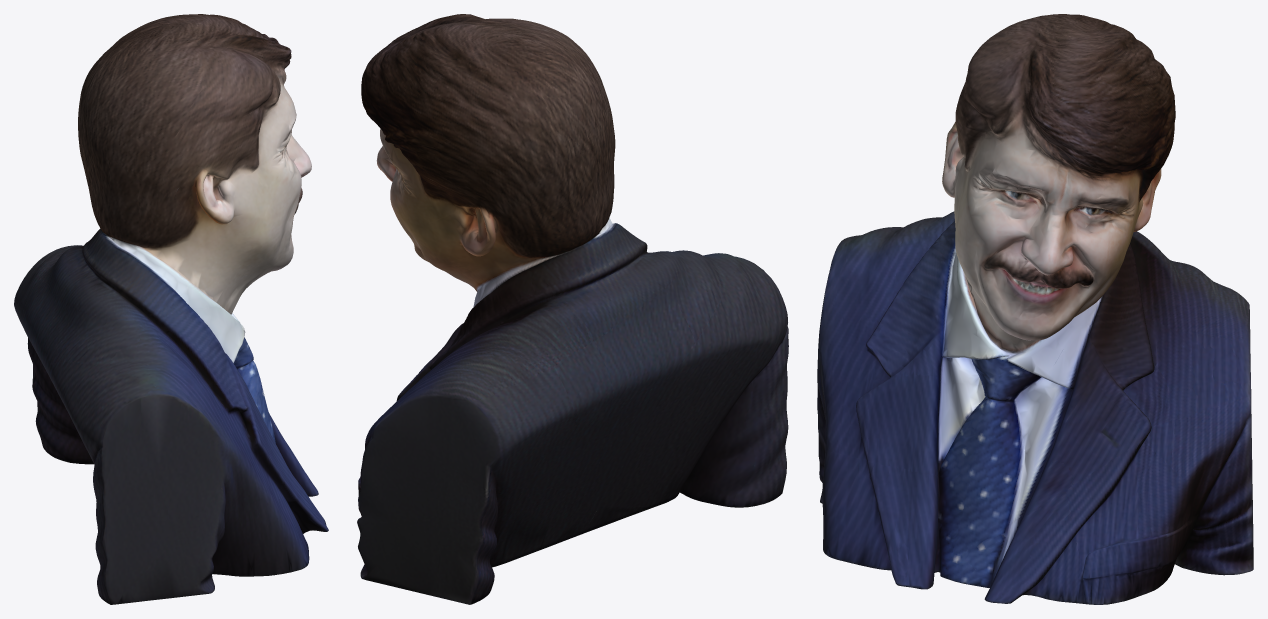
The model's file is tripo_pbr_model_a35f888f-0889-4b8d-a7a5-97b26f711c76_meshopt-v1.glb.
3 renders of one model, left to right at view 1: azimuth 30°, elevation 25°; view 2: azimuth 150°, elevation 25°; view 3: azimuth 270°, elevation 25°, orthographic. The views are drawn at different scales.
Visible parts, largest first — view 1: tripo_node_a35f888f-0889-4b8d-a7a5-97b26f711c76; view 2: tripo_node_a35f888f-0889-4b8d-a7a5-97b26f711c76; view 3: tripo_node_a35f888f-0889-4b8d-a7a5-97b26f711c76.
Part boxes in pixels (left/top/right/bottom): tripo_node_a35f888f-0889-4b8d-a7a5-97b26f711c76: left=14, top=14, right=328, bottom=604; tripo_node_a35f888f-0889-4b8d-a7a5-97b26f711c76: left=357, top=14, right=788, bottom=604; tripo_node_a35f888f-0889-4b8d-a7a5-97b26f711c76: left=817, top=14, right=1253, bottom=604.
Bounding box in the file's own units: 0.66 × 0.9784 × 0.7431.
Materials: 1 (1 with a texture image).
